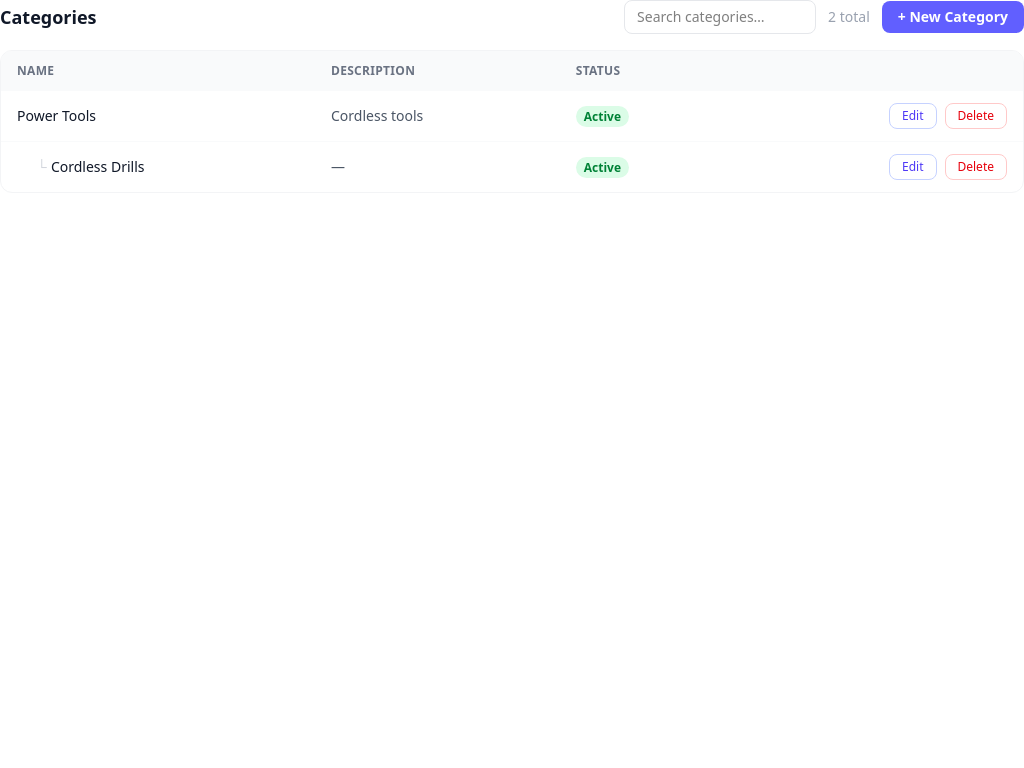
Test: CategoriesTab › pre-fills the form on edit and excludes the category itself from parent options
Expected: the text "Power Tools" is shown, [17, 106, 96, 125]
Click the button "Edit" in the row of "Power Tools" at point(913, 116), box [889, 103, 936, 129]
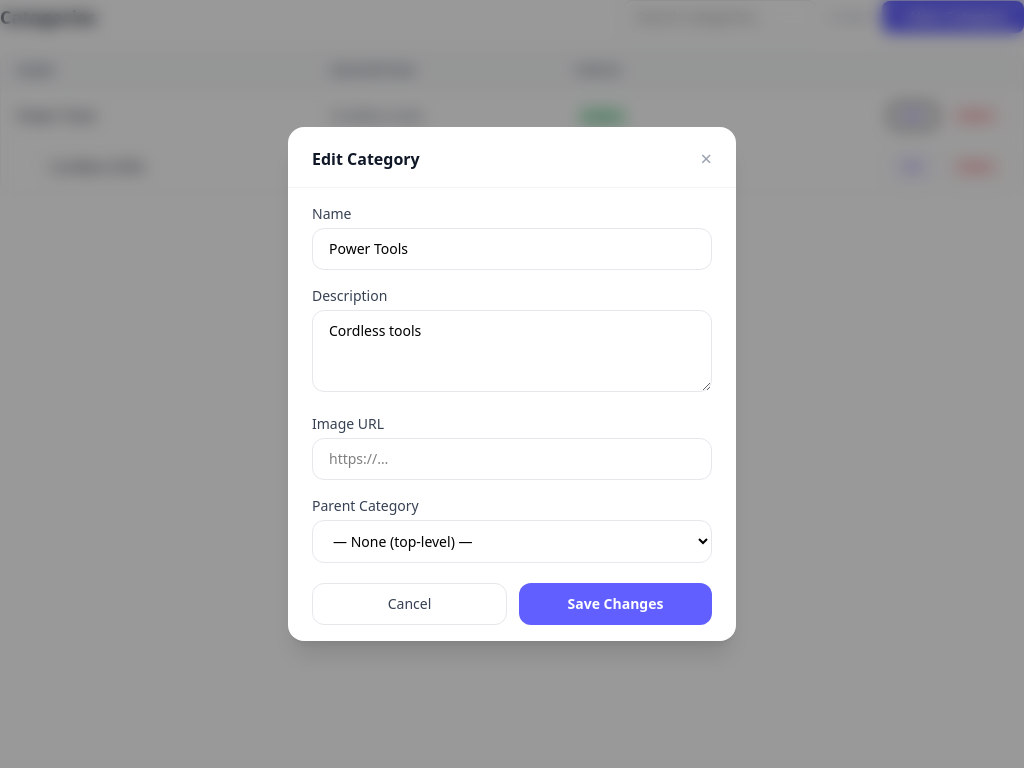
Now the field labelled "Name" holds "Power Tools", box [312, 228, 712, 270]
